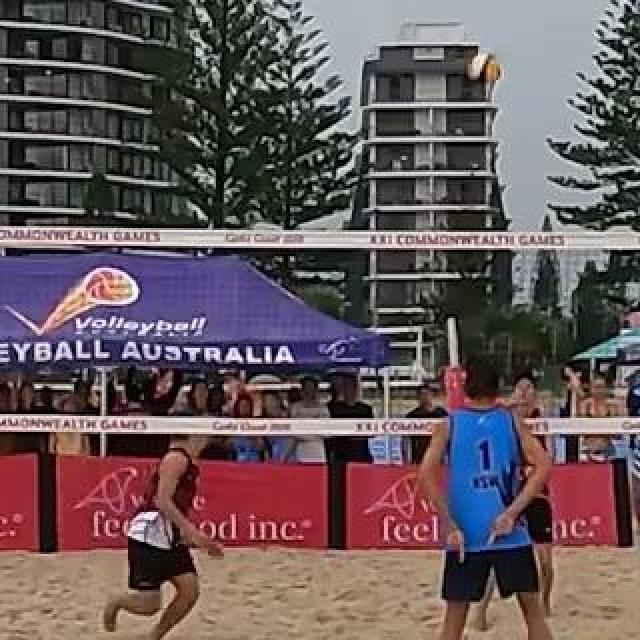volleyball: (467, 54, 499, 86)
